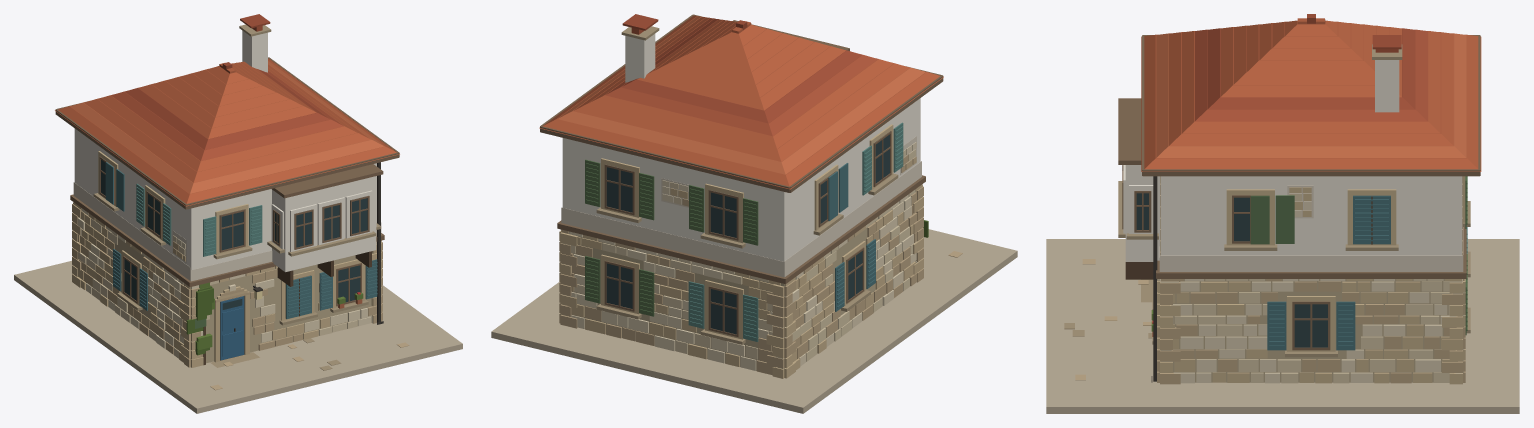
The model's file is cumbali-ev.glb.
3 views of the same model, side by side, from view 1: azimuth 30°, elevation 25°; view 2: azimuth 150°, elevation 25°; view 3: azimuth 270°, elevation 25° (orthographic). The views are drawn at different scales.
Parts seen in each view (by area): view 1: zemin, kiremit1, badana, ahsap, tas2, tas3, cam, kiremit3, harc, kepenk, tas4, kiremit2 (+10 smaller); view 2: kiremit1, zemin, badana, tas2, ahsap, tas3, tas4, badana_kir, kiremit3, cam, yesil_kepenk, tas1 (+6 smaller); view 3: zemin, kiremit1, badana, tas2, ahsap, tas3, tas4, kiremit3, badana_kir, harc, kiremit2, tas1 (+7 smaller).
Boxes of the visible parts, x1=… form: zemin: x1=14, y1=260, x2=462, y2=413; kiremit1: x1=55, y1=58, x2=399, y2=206; badana: x1=74, y1=30, x2=376, y2=272; ahsap: x1=55, y1=57, x2=399, y2=318; tas2: x1=72, y1=151, x2=382, y2=367; tas3: x1=72, y1=204, x2=409, y2=390; cam: x1=101, y1=158, x2=367, y2=309; kiremit3: x1=70, y1=61, x2=384, y2=193; harc: x1=79, y1=229, x2=372, y2=363; kepenk: x1=105, y1=162, x2=377, y2=319; tas4: x1=73, y1=208, x2=372, y2=350; kiremit2: x1=111, y1=25, x2=343, y2=160; kiremit1: x1=539, y1=15, x2=943, y2=189; zemin: x1=491, y1=229, x2=1017, y2=413; badana: x1=562, y1=34, x2=920, y2=261; tas2: x1=559, y1=124, x2=923, y2=378; ahsap: x1=540, y1=14, x2=943, y2=336; tas3: x1=559, y1=154, x2=962, y2=375; tas4: x1=561, y1=142, x2=921, y2=370; badana_kir: x1=561, y1=136, x2=921, y2=277; kiremit3: x1=557, y1=16, x2=925, y2=174; cam: x1=606, y1=131, x2=890, y2=334; yesil_kepenk: x1=585, y1=159, x2=758, y2=316; tas1: x1=561, y1=149, x2=916, y2=368; zemin: x1=1046, y1=239, x2=1519, y2=413; kiremit1: x1=1141, y1=18, x2=1481, y2=171; badana: x1=1123, y1=60, x2=1462, y2=261; tas2: x1=1157, y1=176, x2=1465, y2=384; ahsap: x1=1118, y1=35, x2=1480, y2=350; tas3: x1=1075, y1=176, x2=1465, y2=384; tas4: x1=1161, y1=201, x2=1464, y2=383; kiremit3: x1=1156, y1=33, x2=1466, y2=157; badana_kir: x1=1159, y1=185, x2=1463, y2=271; harc: x1=1161, y1=279, x2=1462, y2=382; kiremit2: x1=1195, y1=29, x2=1427, y2=121; tas1: x1=1157, y1=193, x2=1464, y2=383.
Bounding box in the file's own units: 10.5 × 9.46 × 12.5.
